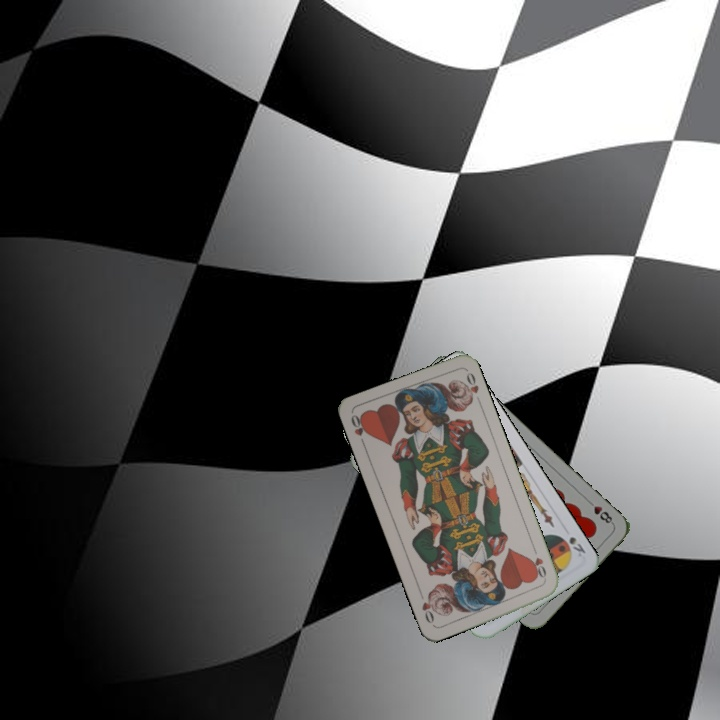H8: (583, 496, 616, 527)
HO: (347, 410, 370, 450), (526, 544, 549, 583)
SK: (565, 532, 588, 559)
